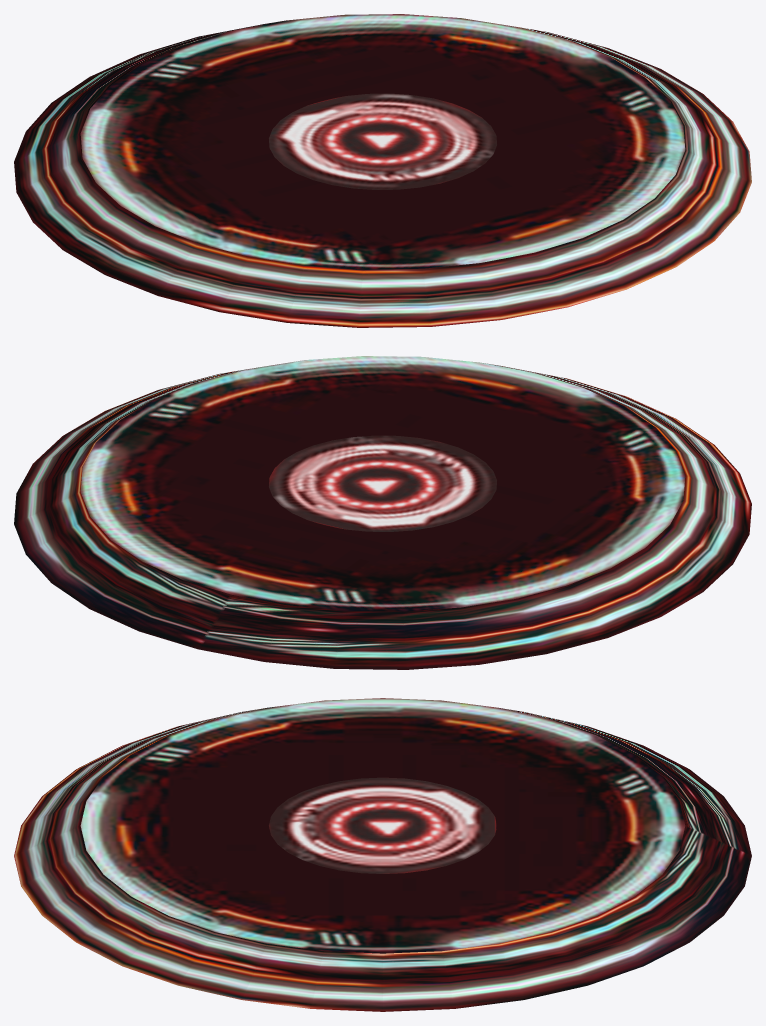
File: socle.fbx
3 views of the same model, one above another, from view 1: azimuth 30°, elevation 25°; view 2: azimuth 150°, elevation 25°; view 3: azimuth 270°, elevation 25° (orthographic).
Parts seen in each view (by area): view 1: Cylinder; view 2: Cylinder; view 3: Cylinder.
Part boxes in pixels (x1,y1,x2,y2): Cylinder: (14,14,751,327); Cylinder: (14,356,751,669); Cylinder: (14,698,751,1011).
Bounding box in the file's own units: 819 × 36.9 × 819.
